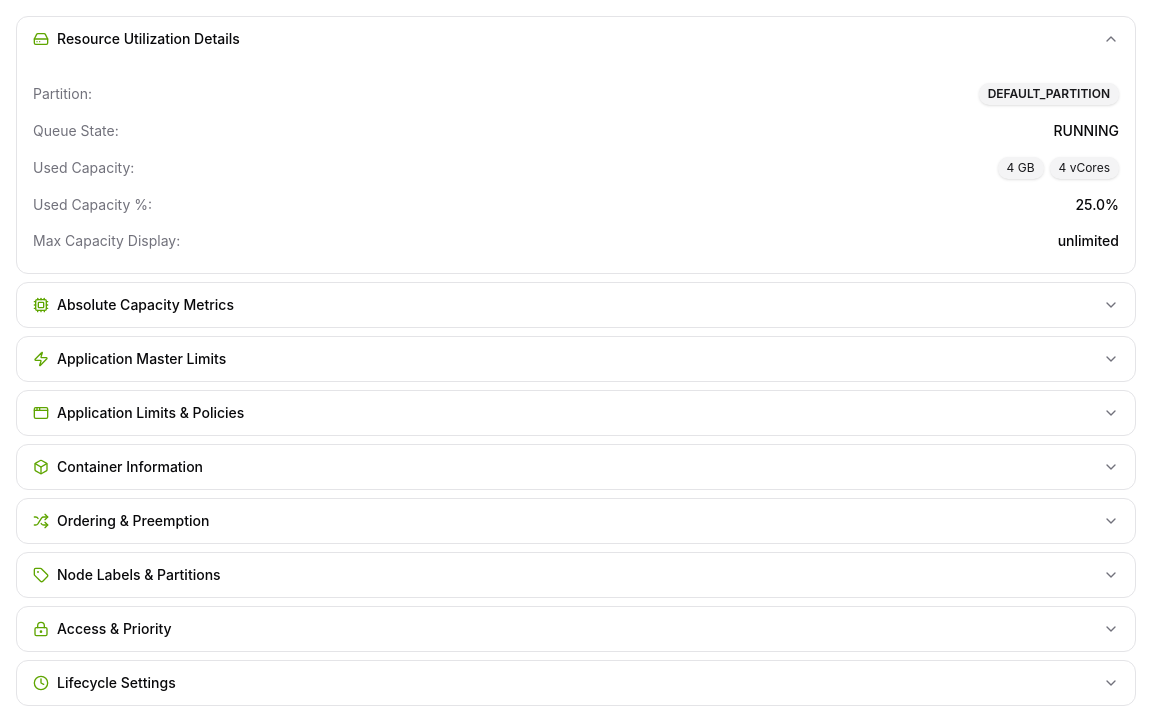
Test: QueueInfoTab › Ordering & Preemption section › should display "No ordering/preemption data available" when no data present
The width and height of the screenshot is (1152, 710).
Click the button "Ordering & Preemption".
click(133, 520)  # box [17,499,1135,543]
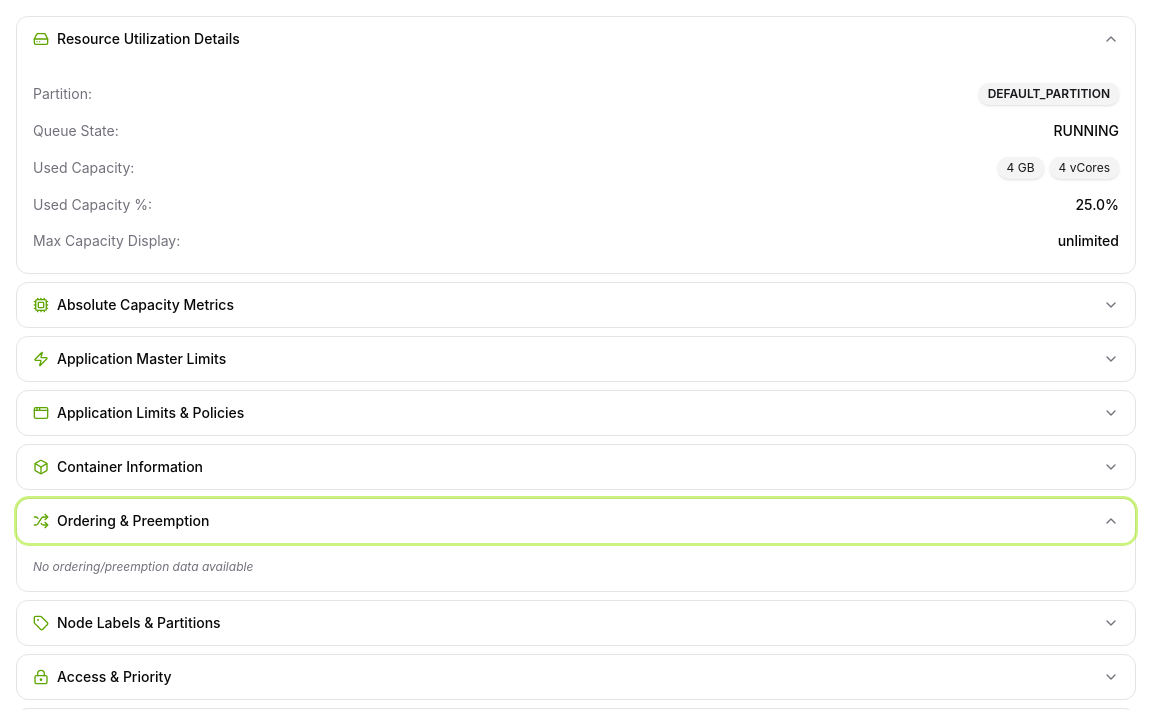
Now the text "No ordering/preemption data available" is shown, box [33,559,253,574]
